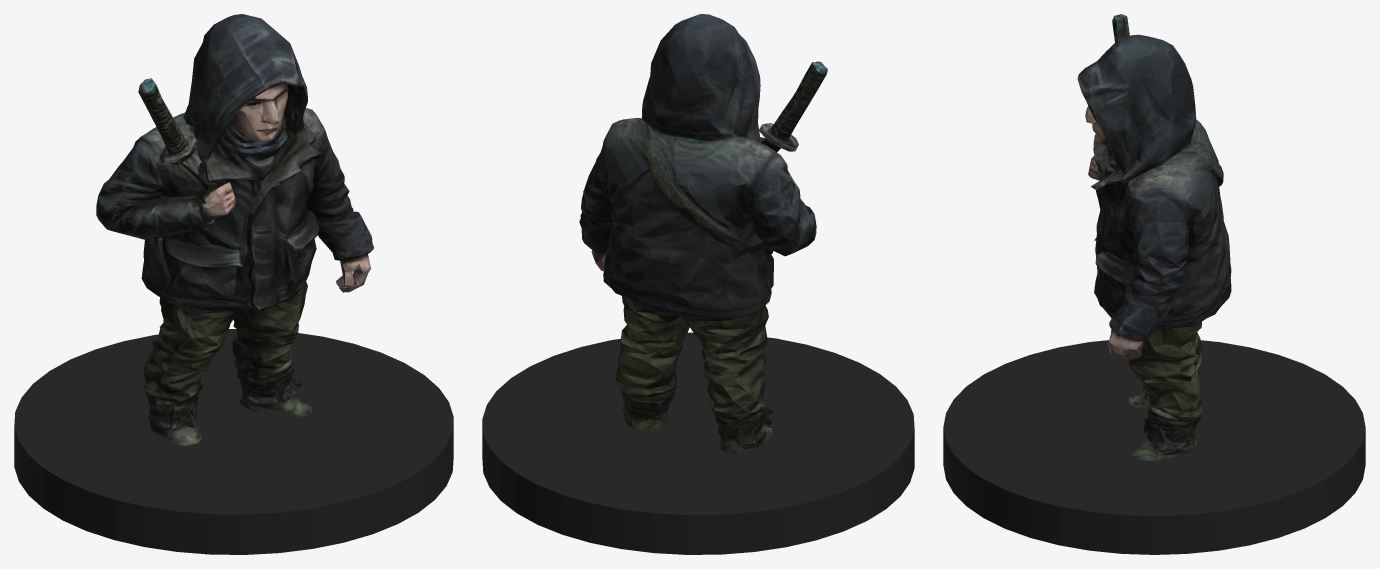
The model's file is mike-cho.glb.
The picture shows the model from 3 angles, left to right: view 1: azimuth 30°, elevation 25°; view 2: azimuth 150°, elevation 25°; view 3: azimuth 270°, elevation 25°; orthographic projection. The views are drawn at different scales.
Visible parts, largest first — view 1: base, figure; view 2: base, figure; view 3: base, figure.
Part boxes in pixels (x1,y1,x2,y2): base: [14, 329, 453, 554]; figure: [96, 14, 374, 446]; base: [482, 332, 914, 554]; figure: [579, 14, 827, 453]; base: [943, 340, 1365, 554]; figure: [1077, 14, 1231, 460].
Bounding box in the file's own units: 1.18 × 1.32 × 1.18.
2 materials, 1 textured.
